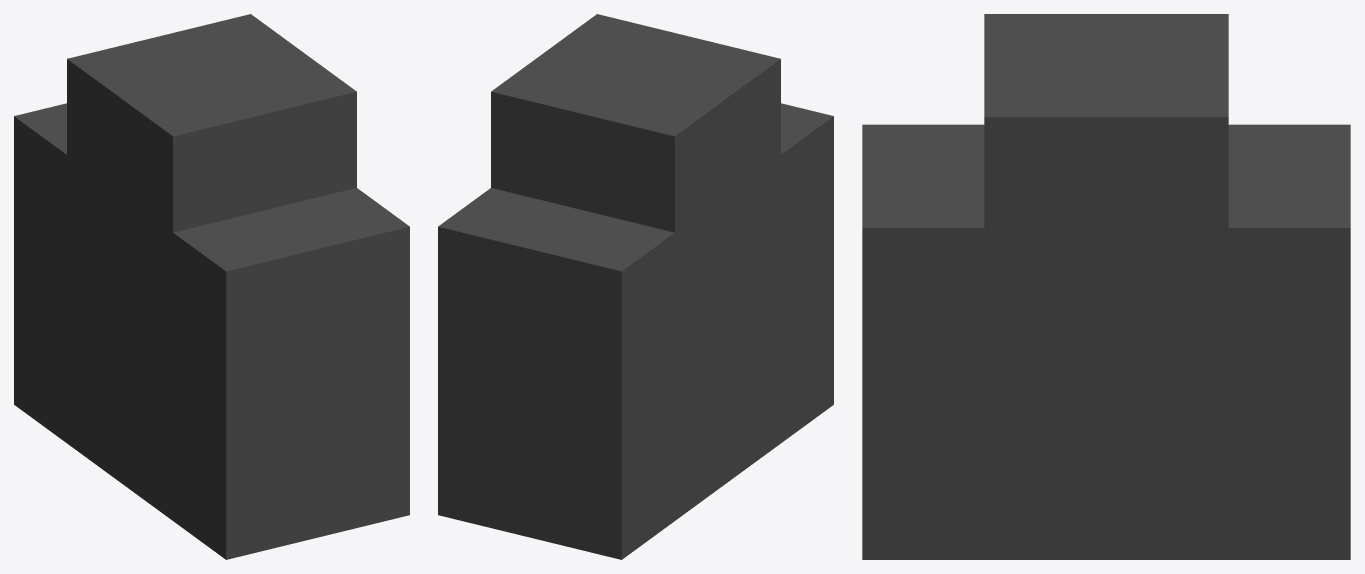
Rendered from Saleevs.fbx.
The picture shows the model from 3 angles, left to right: view 1: azimuth 30°, elevation 25°; view 2: azimuth 150°, elevation 25°; view 3: azimuth 270°, elevation 25°; orthographic projection. The views are drawn at different scales.
Visible parts, largest first — view 1: Saleevs; view 2: Saleevs; view 3: Saleevs.
Part boxes in pixels (x1,y1,x2,y2): Saleevs: [14, 14, 409, 559]; Saleevs: [438, 14, 833, 559]; Saleevs: [862, 14, 1350, 559].
Size of the model in its own units: 20 by 40 by 40.
Materials: 1 (1 with a texture image).
